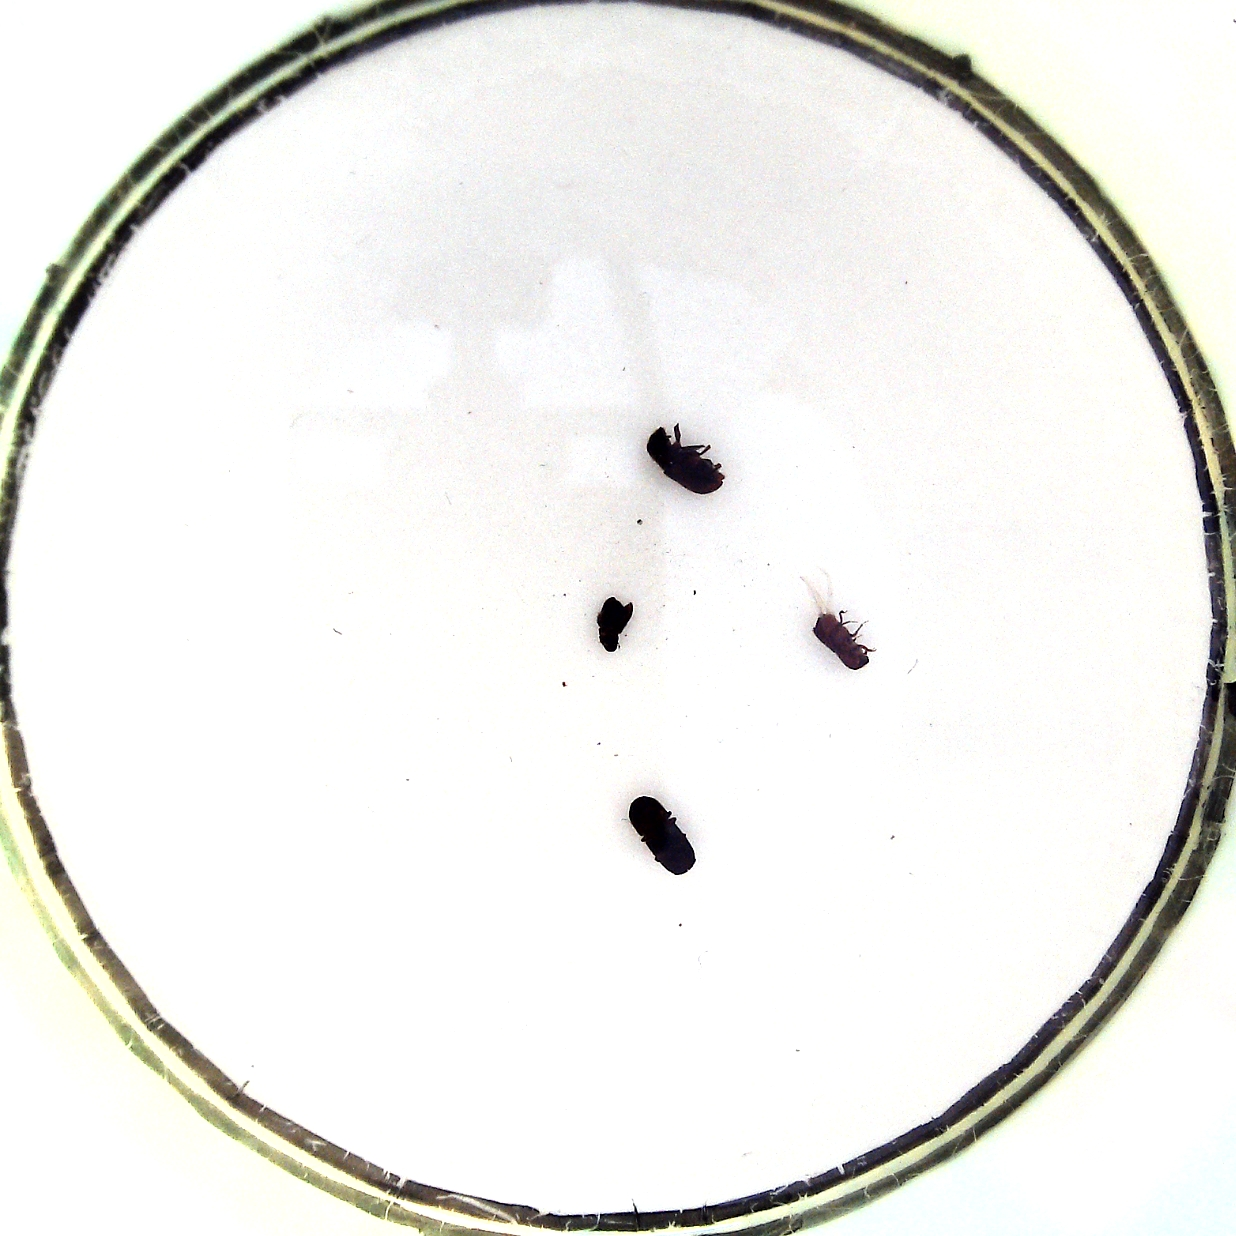Linnaeus: (623, 788, 699, 879)
acuminatus: (813, 598, 875, 673)
armandi: (644, 423, 728, 498)
coleoptera: (590, 590, 637, 654)
